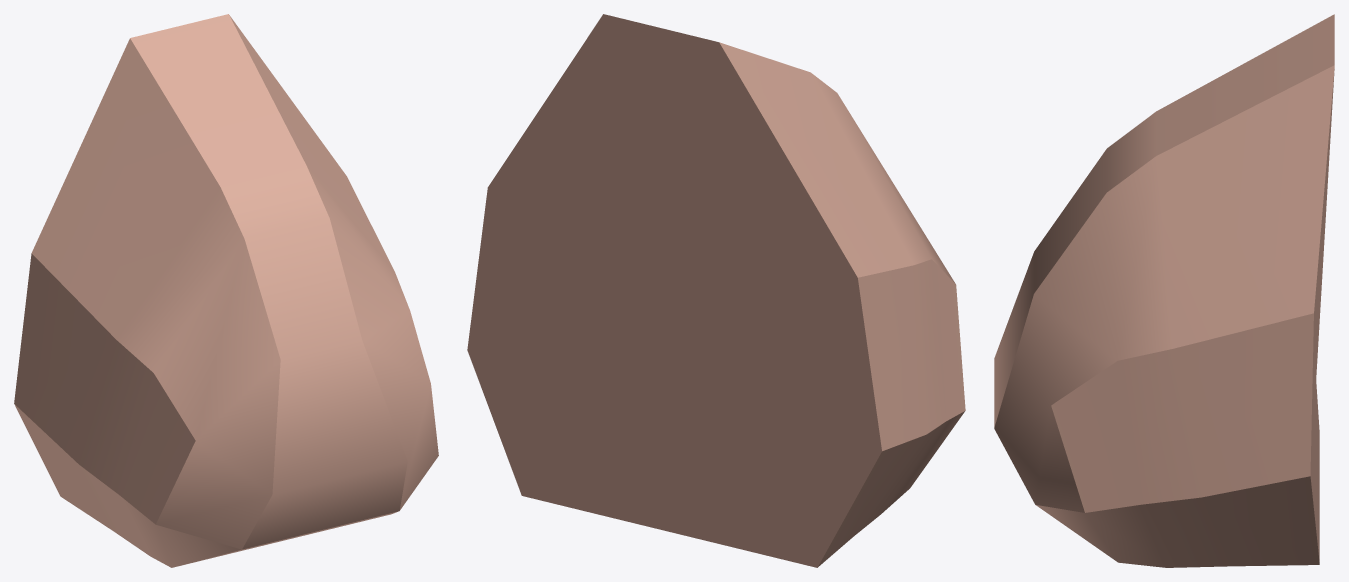
File: Nariz_Bombacha.fbx
3 renders of one model, left to right at view 1: azimuth 30°, elevation 25°; view 2: azimuth 150°, elevation 25°; view 3: azimuth 270°, elevation 25°, orthographic. The views are drawn at different scales.
Visible parts, largest first — view 1: Nariz_Circular; view 2: Nariz_Circular; view 3: Nariz_Circular.
Boxes of the visible parts, left/top/right/bottom form: Nariz_Circular: left=14, top=14, right=438, bottom=567; Nariz_Circular: left=467, top=14, right=965, bottom=567; Nariz_Circular: left=994, top=14, right=1334, bottom=567.
Bounding box in the file's own units: 0.5203 × 0.6275 × 0.4099.
